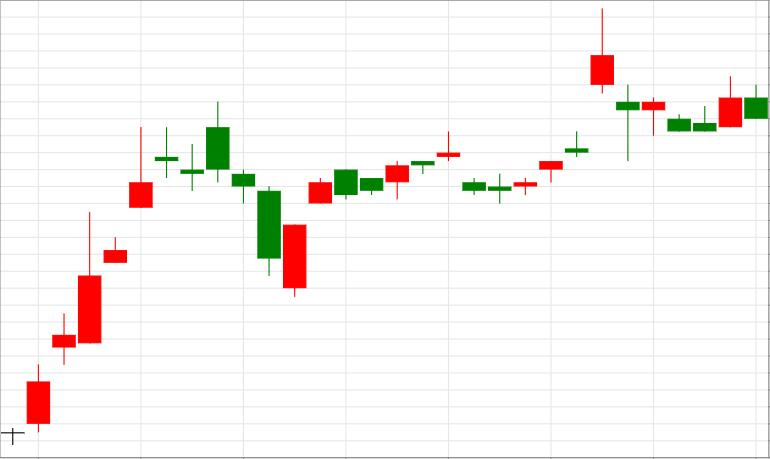shooting_star_fall: (27, 128, 153, 431), (463, 8, 614, 203)
